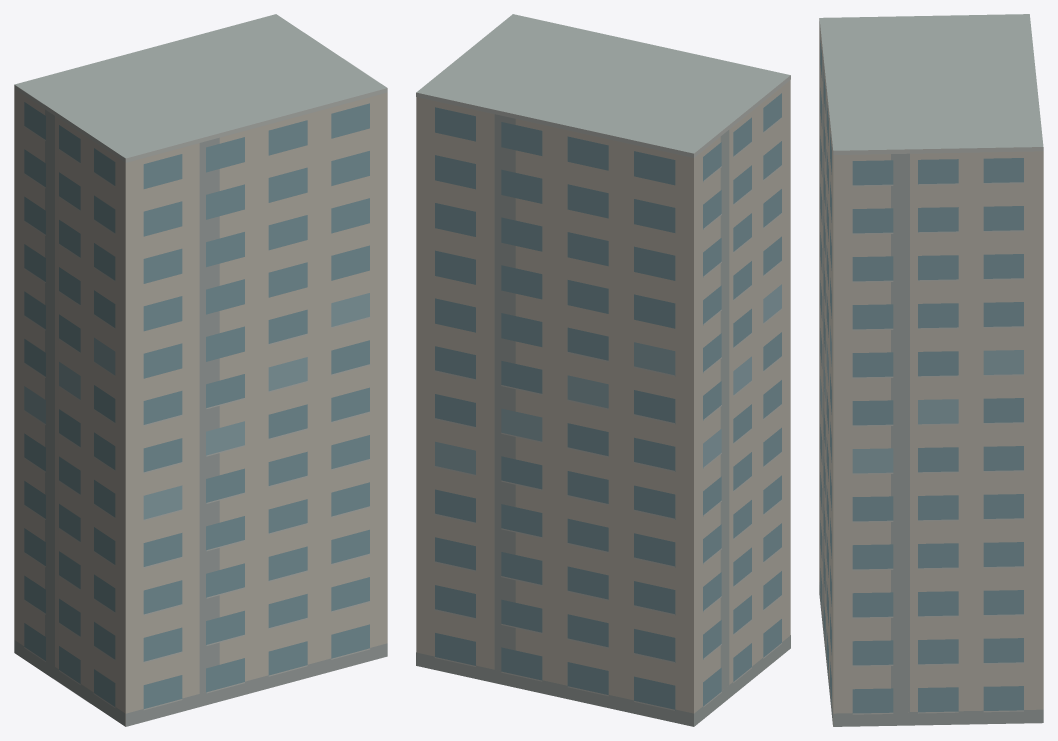
The model's file is residential-f5205049-9987-49fc-989e-9b825adbdc8a.glb.
3 renders of one model, left to right at view 1: azimuth 30°, elevation 25°; view 2: azimuth 150°, elevation 25°; view 3: azimuth 270°, elevation 25°, orthographic.
Parts seen in each view (by area): view 1: residential-f5205049-9987-49fc-989e-9b825adbdc8a.tmp; view 2: residential-f5205049-9987-49fc-989e-9b825adbdc8a.tmp; view 3: residential-f5205049-9987-49fc-989e-9b825adbdc8a.tmp.
Boxes of the visible parts, bbox=[...] form: residential-f5205049-9987-49fc-989e-9b825adbdc8a.tmp: bbox=[14, 14, 387, 726]; residential-f5205049-9987-49fc-989e-9b825adbdc8a.tmp: bbox=[416, 14, 790, 726]; residential-f5205049-9987-49fc-989e-9b825adbdc8a.tmp: bbox=[819, 14, 1043, 726].
Bounding box in the file's own units: 16.3 × 32 × 11.29.
